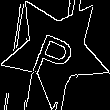P_N: (30, 20, 82, 81)
